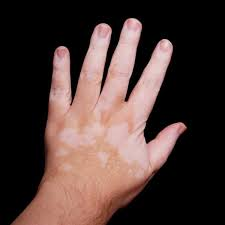vitiligo: (43, 22, 193, 180)
